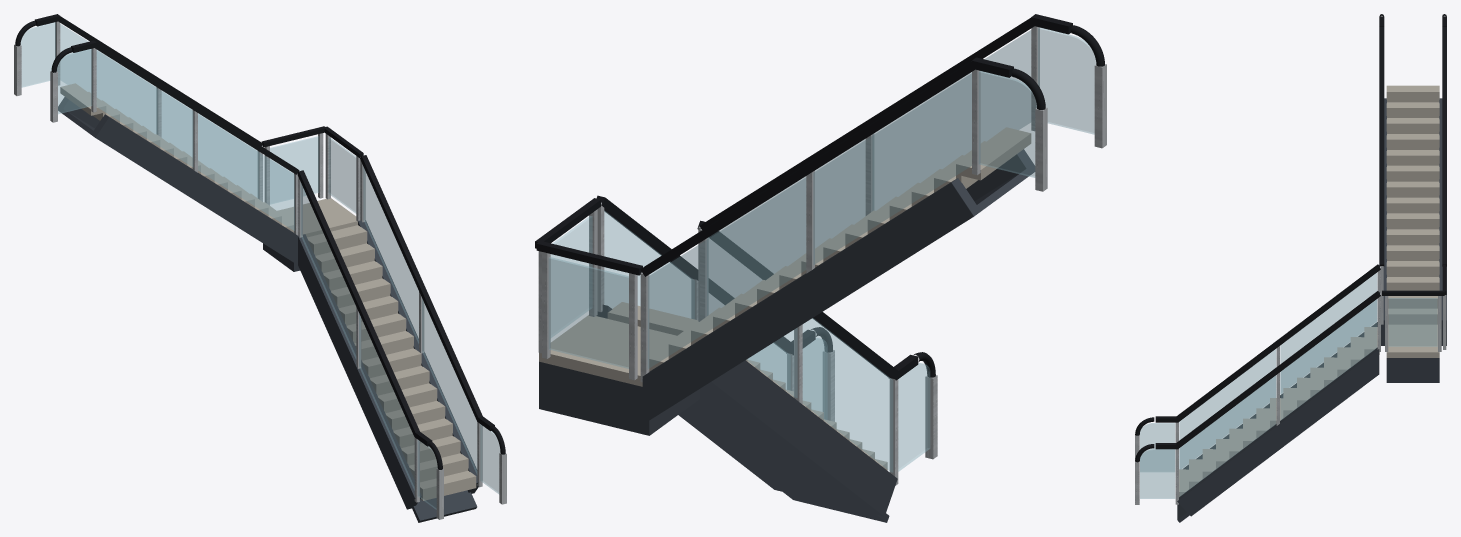
The model's file is stair-left90.glb.
The picture shows the model from 3 angles, left to right: view 1: azimuth 30°, elevation 25°; view 2: azimuth 150°, elevation 25°; view 3: azimuth 270°, elevation 25°; orthographic projection. The views are drawn at different scales.
Parts seen in each view (by area): view 1: StairLeft90, stair-stringer (×3), stair-riser (×15), stair-landing, stair-landing-surface, stair-soffit, stair-tread; view 2: StairLeft90, stair-stringer (×4), stair-landing, stair-soffit (×2), stair-landing-frame, stair-landing-surface, stair-tread (×2); view 3: StairLeft90, stair-riser (×15), stair-stringer (×3), stair-landing, stair-landing-surface, stair-landing-frame, stair-tread.
Boxes of the visible parts, x1,y1,x2,y2 form: StairLeft90: (14,14,506,519); stair-stringer (×3): (92,114,478,509); stair-riser (×15): (312,230,476,500); stair-landing: (261,126,363,221); stair-landing-surface: (277,198,357,237); stair-soffit: (412,490,477,522); stair-tread: (60,84,104,115); StairLeft90: (596,14,1106,485); stair-stringer (×4): (596,149,1035,516); stair-landing: (535,198,642,380); stair-soffit (×2): (682,167,1032,522); stair-landing-frame: (539,361,699,435); stair-landing-surface: (539,315,676,386); stair-tread (×2): (607,128,1031,335); StairLeft90: (1135,14,1446,504); stair-riser (×15): (1386,91,1439,324); stair-stringer (×3): (1177,98,1446,516); stair-landing: (1382,265,1446,351); stair-landing-surface: (1386,324,1439,357); stair-landing-frame: (1386,358,1439,382); stair-tread: (1386,85,1439,91).
Bounding box in the file's own units: 4.63 × 6.31 × 4.63.
5 materials, 1 textured.
